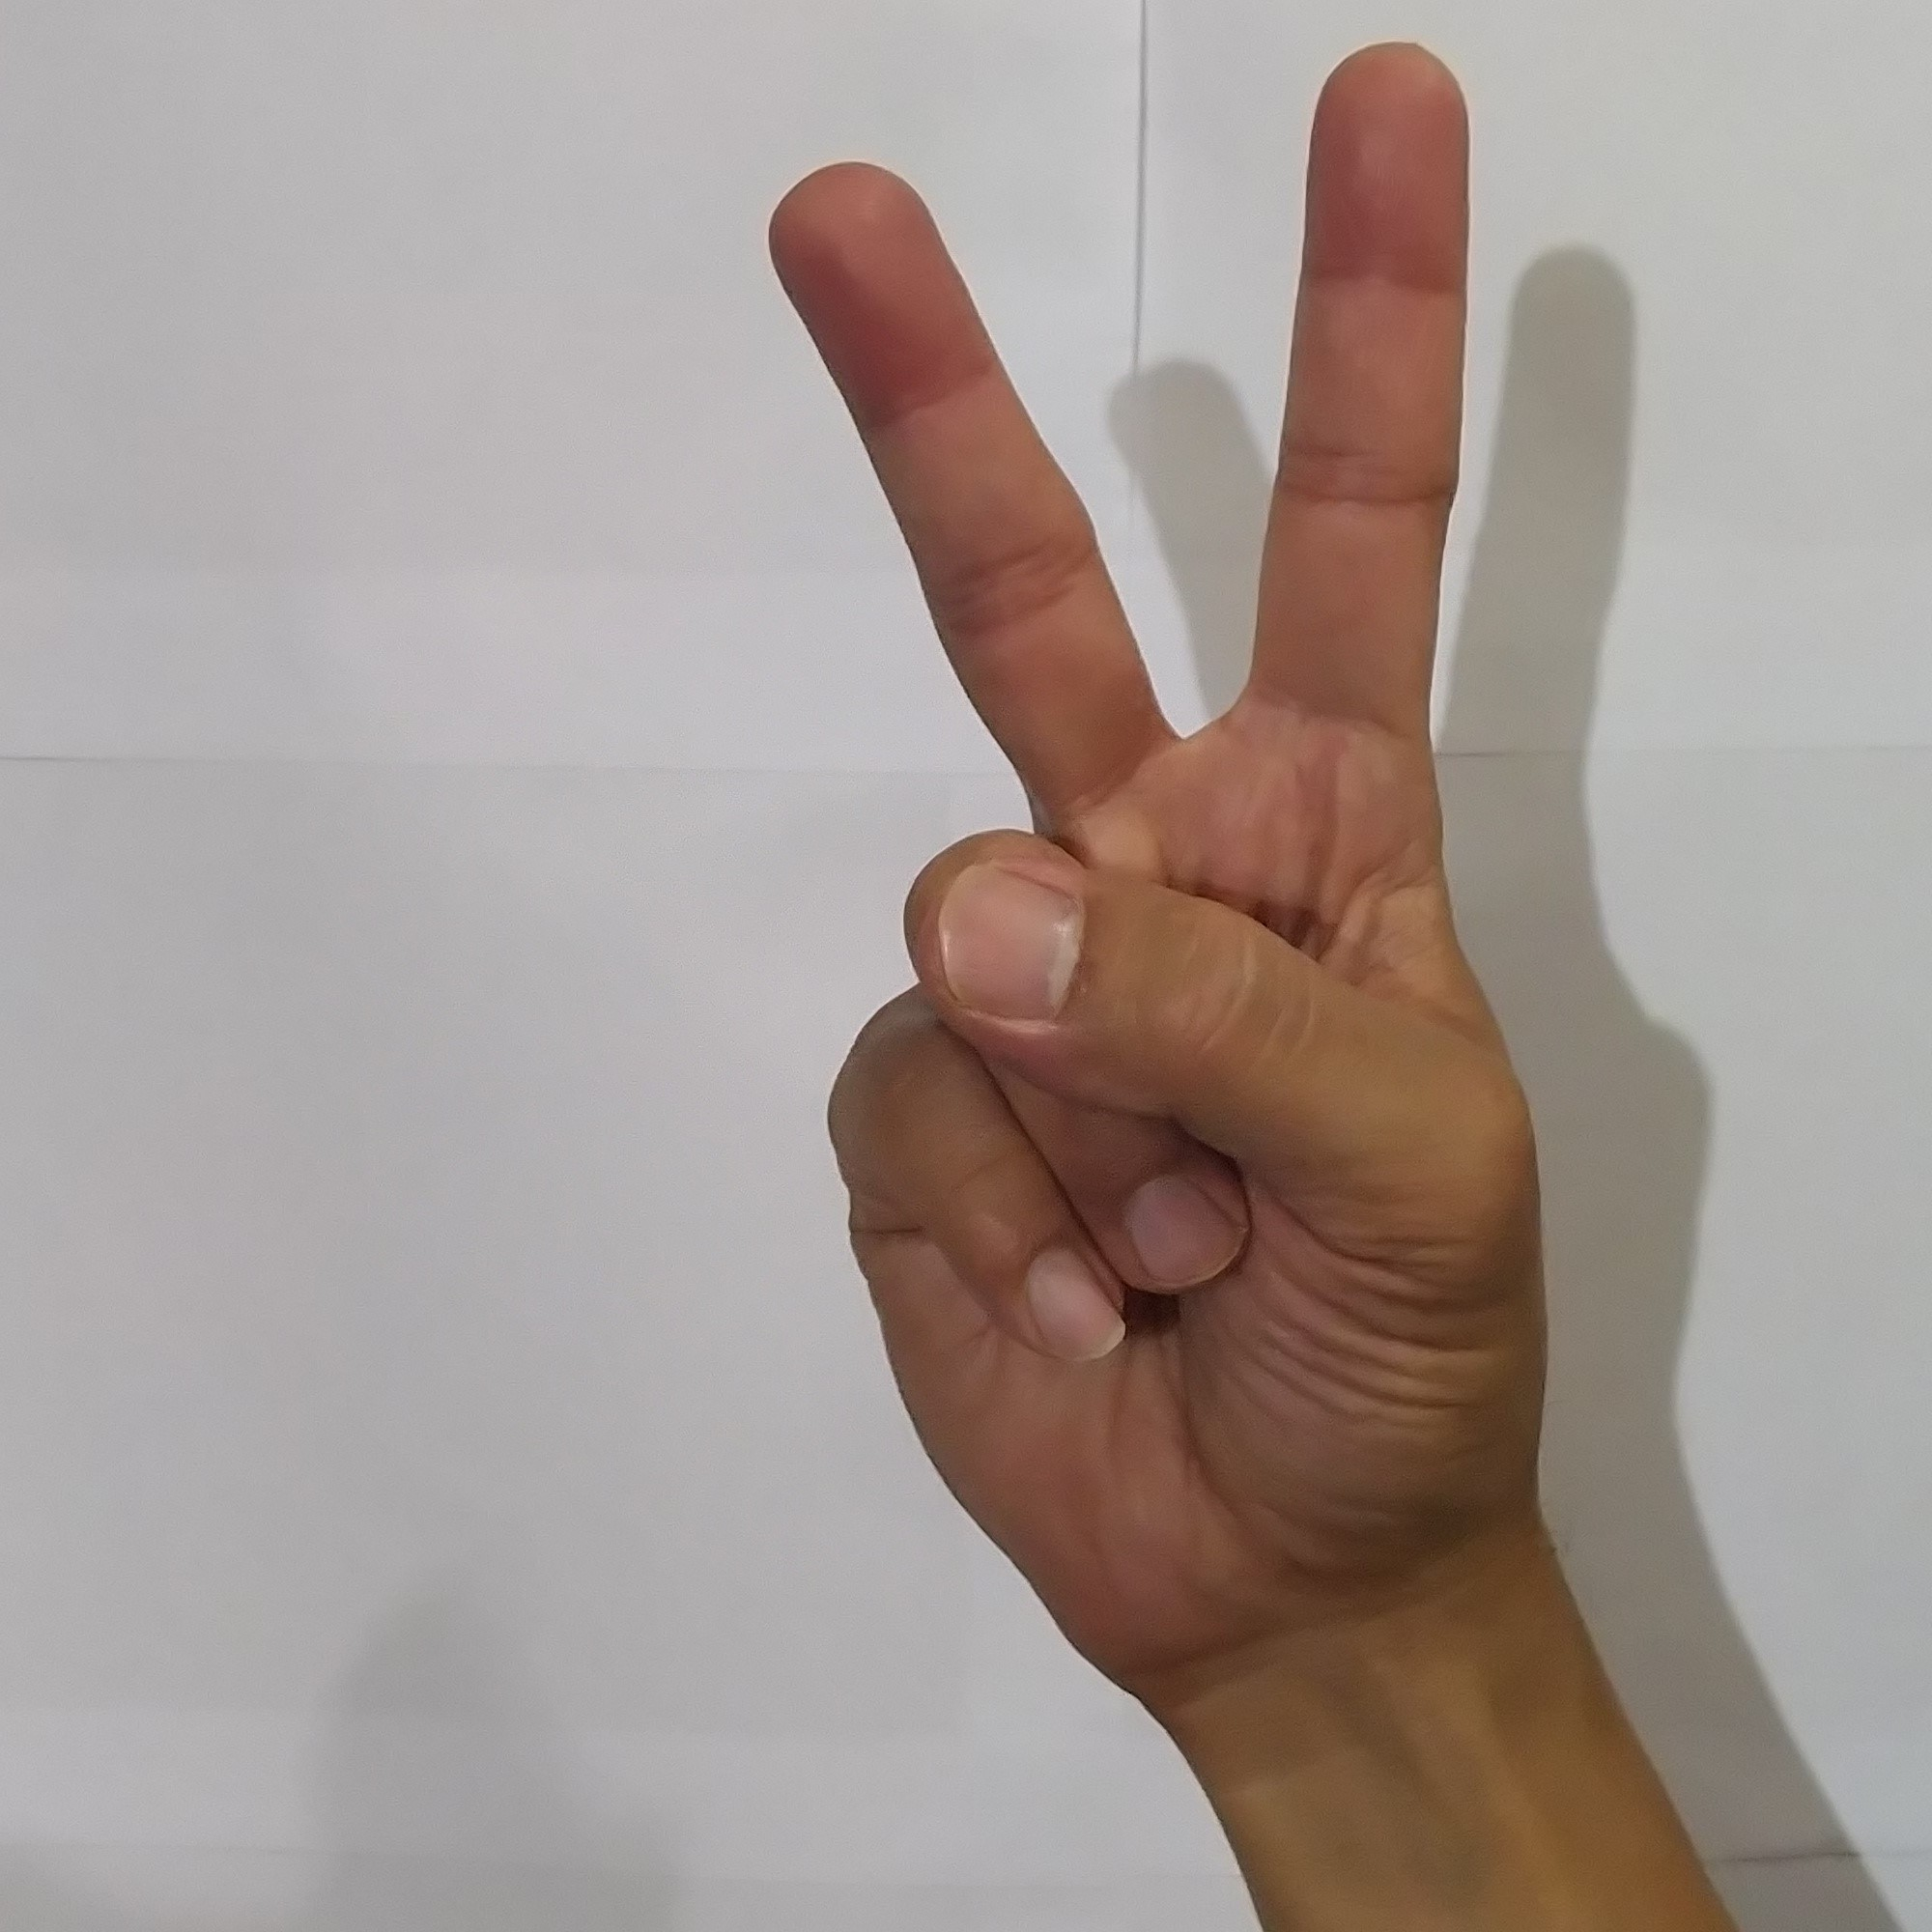V: (745, 25, 1585, 1624)
